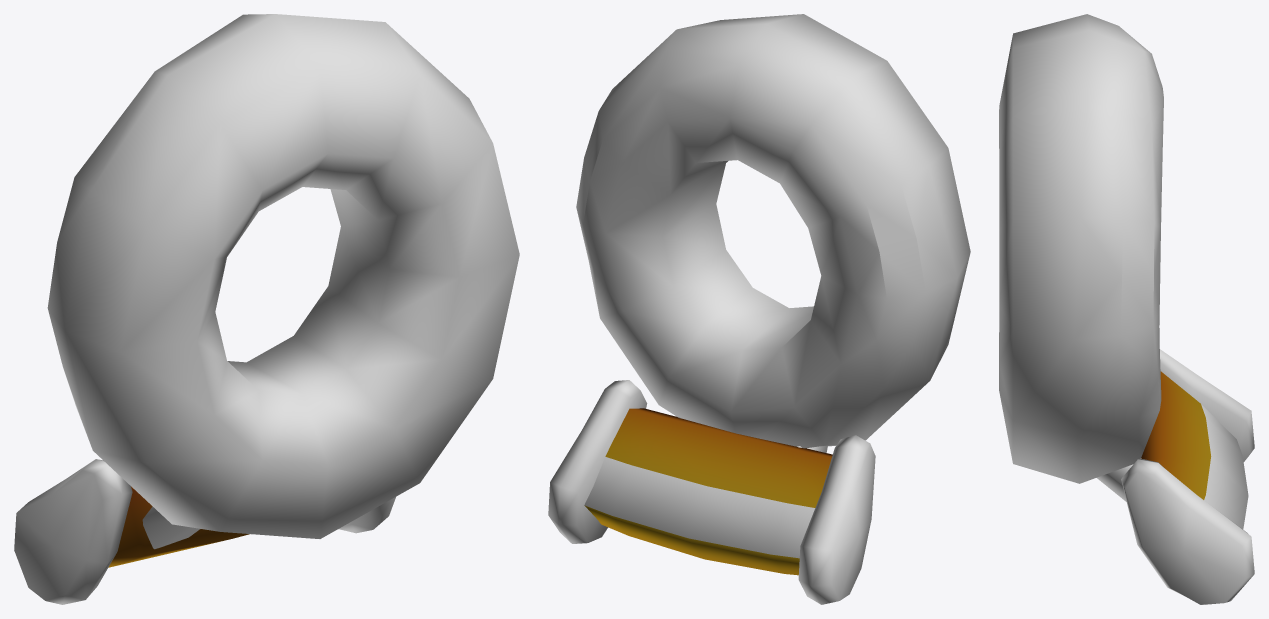
Rendered from CruzTube.fbx.
The picture shows the model from 3 angles, left to right: view 1: azimuth 30°, elevation 25°; view 2: azimuth 150°, elevation 25°; view 3: azimuth 270°, elevation 25°; orthographic projection. The views are drawn at different scales.
Parts seen in each view (by area): view 1: CruzTube; view 2: CruzTube; view 3: CruzTube.
Boxes of the visible parts, <box> form: CruzTube: <box>14,14,519,604</box>; CruzTube: <box>548,14,970,604</box>; CruzTube: <box>999,14,1254,604</box>.
Bounding box in the file's own units: 93.11 × 122 × 55.17.
